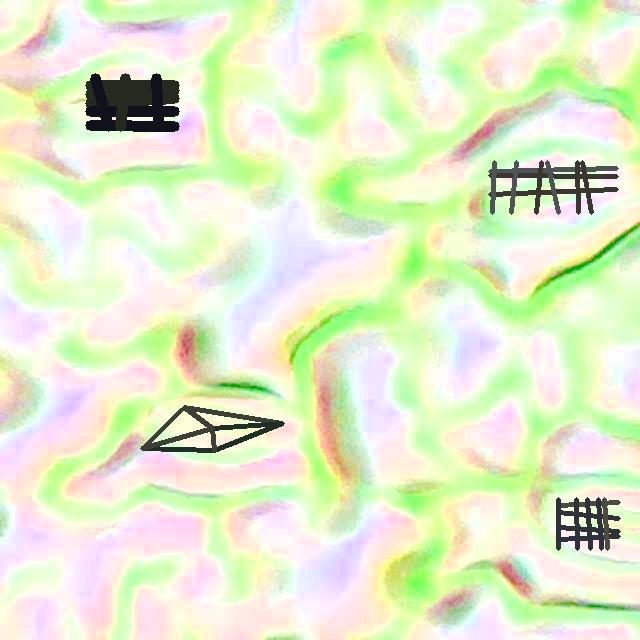close: (488, 161, 618, 214), (140, 405, 284, 452), (85, 73, 179, 131), (556, 497, 620, 550)
